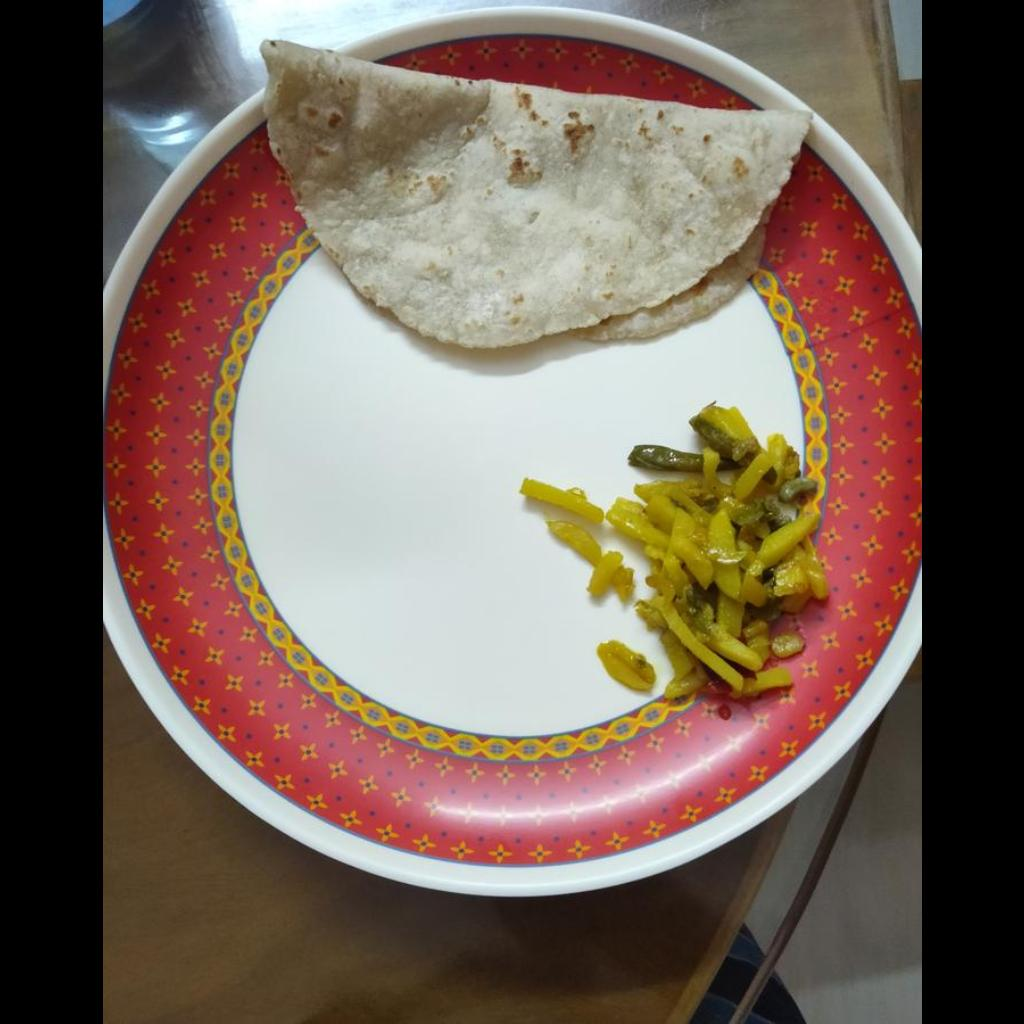ruti: (261, 41, 816, 348)
vaji: (500, 402, 822, 686)
